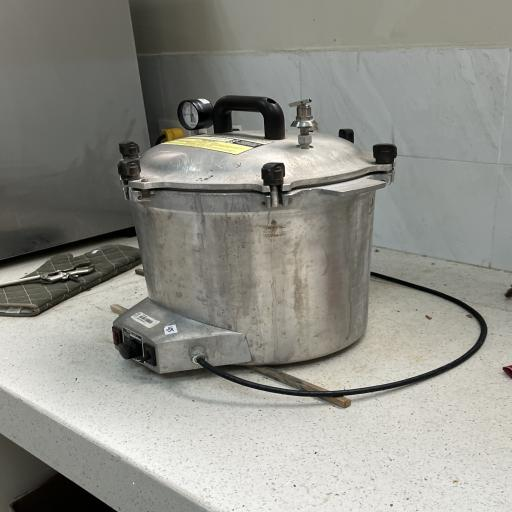Autoclave: (98, 87, 406, 383)
